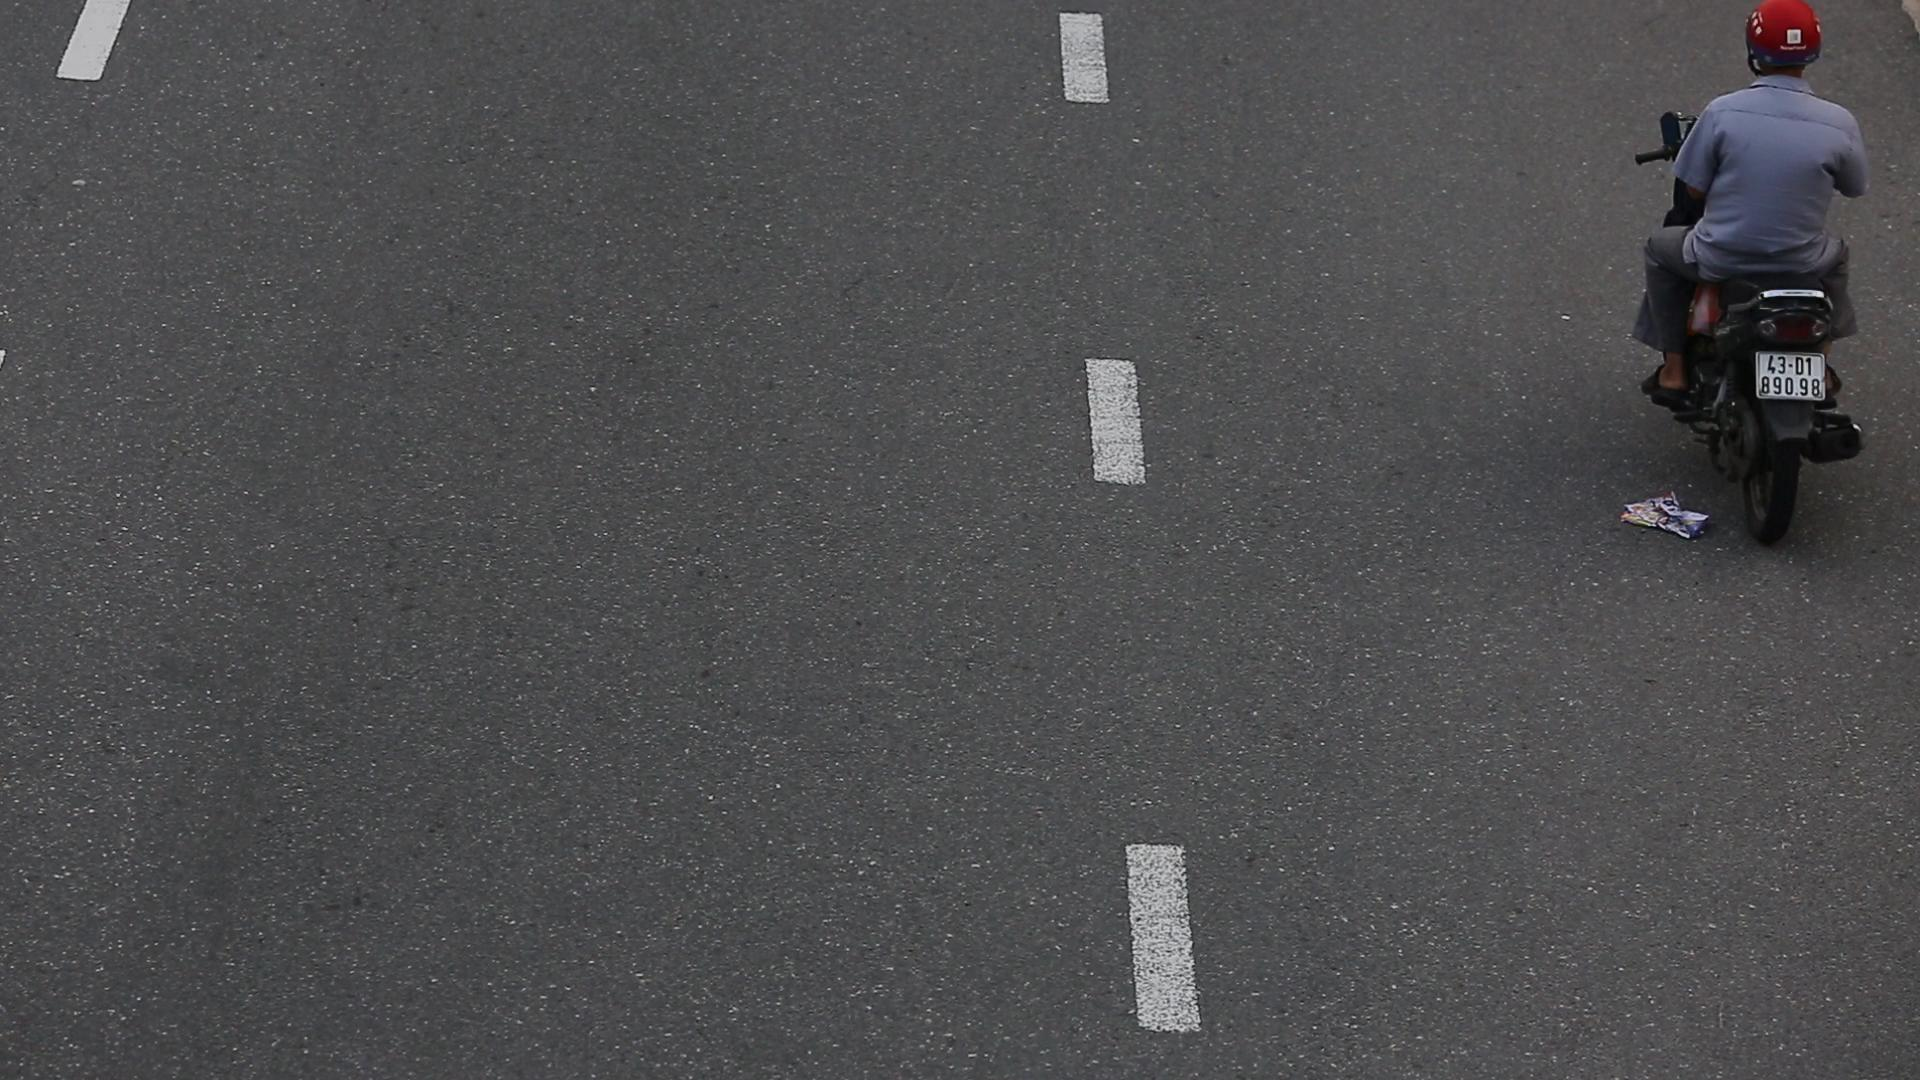motobike: (1621, 0, 1920, 604)
